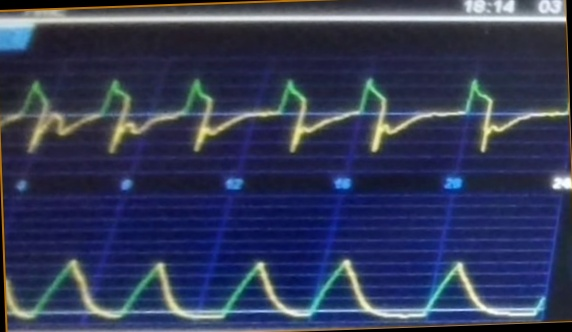Premature_cycling Flow: (2, 64, 569, 165)
Premature_cycling Volume: (5, 239, 541, 323)
